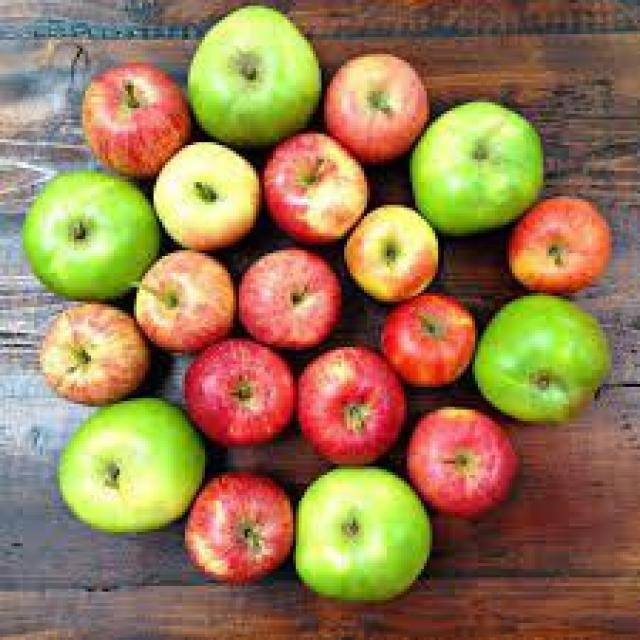Fresh Apple: (173, 7, 325, 142), (46, 408, 200, 530), (18, 177, 157, 298), (478, 300, 614, 422), (306, 468, 426, 596), (418, 95, 530, 225), (75, 58, 185, 182), (263, 142, 390, 248), (323, 55, 442, 165), (508, 192, 624, 302), (406, 402, 514, 516), (302, 354, 408, 462), (155, 147, 263, 248), (196, 340, 294, 448), (132, 254, 240, 350), (42, 310, 146, 404), (186, 478, 288, 570), (246, 254, 338, 344), (384, 302, 472, 388), (353, 215, 437, 303)
